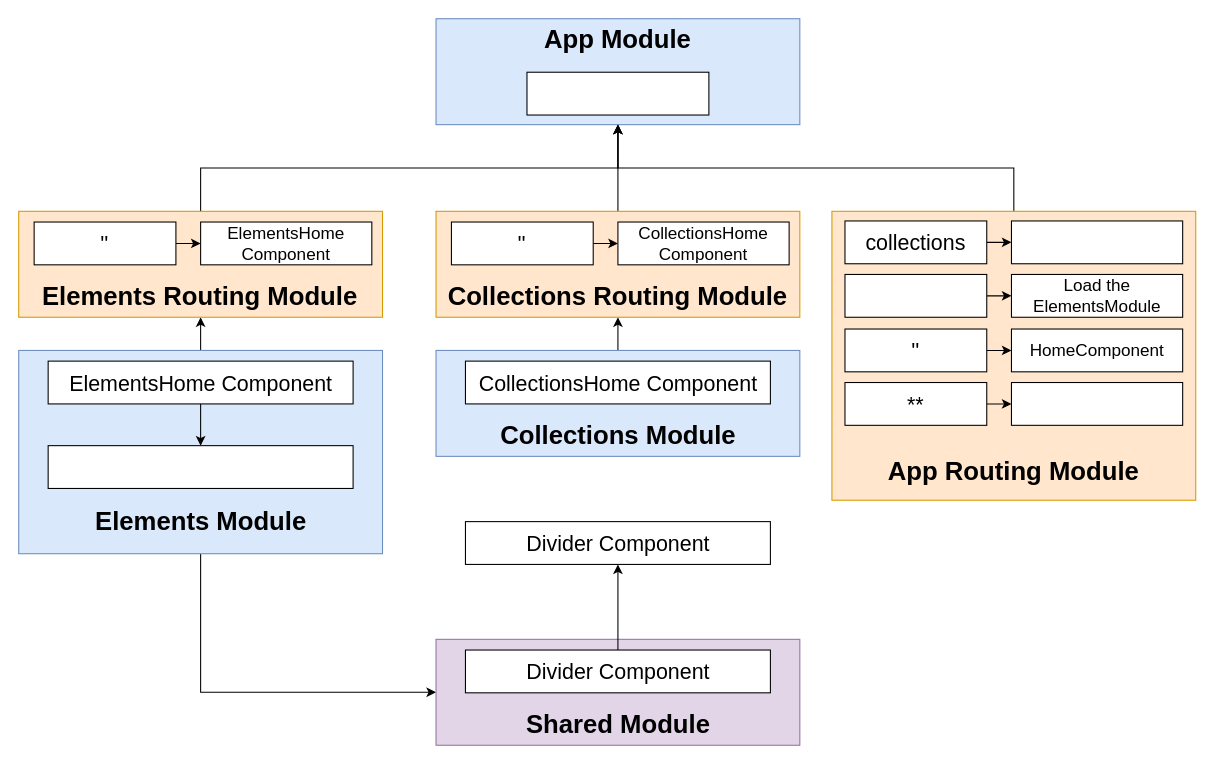
Some shapes in this 1214 by 764 pixel diagram are drawn without their labels. Each missing label, with the centre of its shape:
"App Component" belongs at point (617, 93).
"elements" belongs at point (915, 295).
"Load the CollectionsModule" belongs at point (1096, 242).
"NotFoundComponent" belongs at point (1096, 403).
"Placeholder Component" belongs at point (200, 466).
